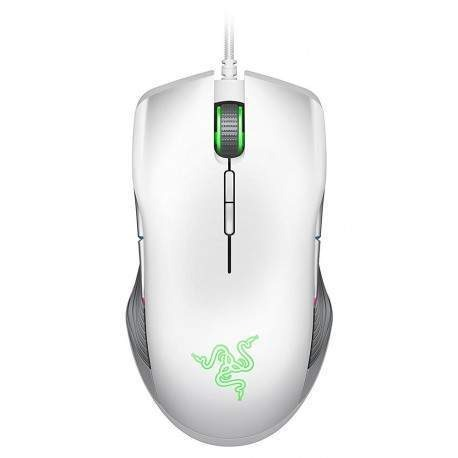mouse: (122, 64, 336, 437)
